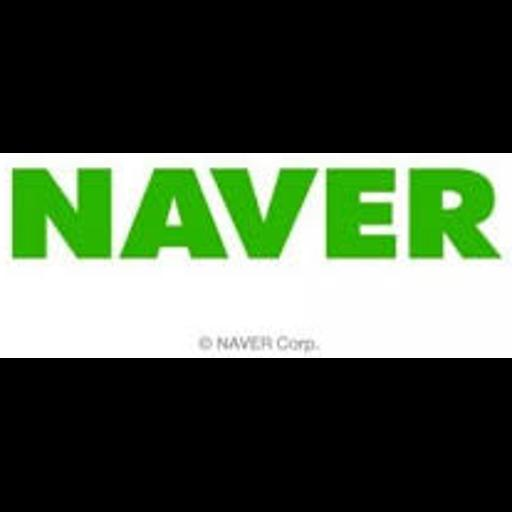Naver: (0, 153, 512, 358)
